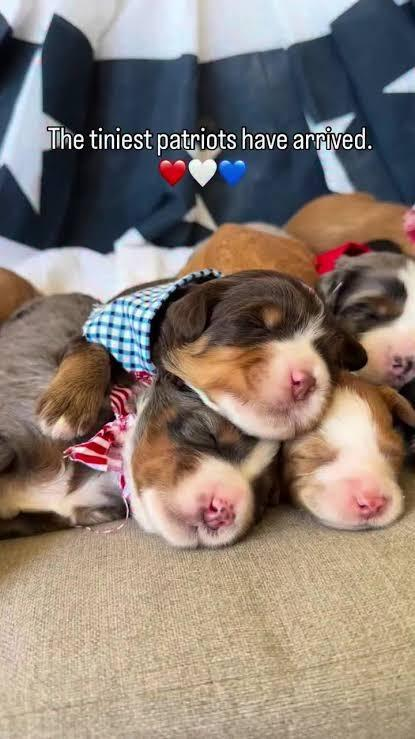puppy-dog: (35, 223, 368, 443), (0, 291, 282, 550), (284, 191, 415, 392), (276, 371, 415, 534)
